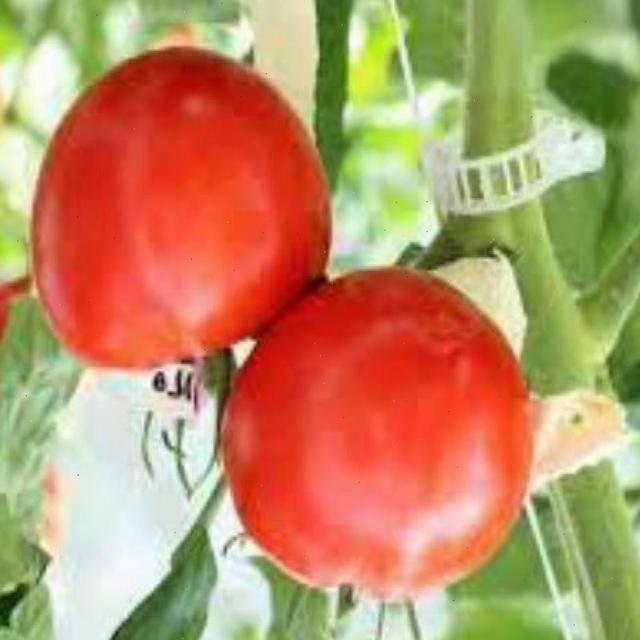Healthy Fruit: (118, 147, 255, 283)
